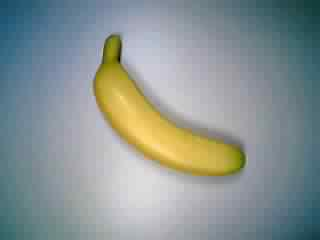banana: (89, 30, 252, 189)
